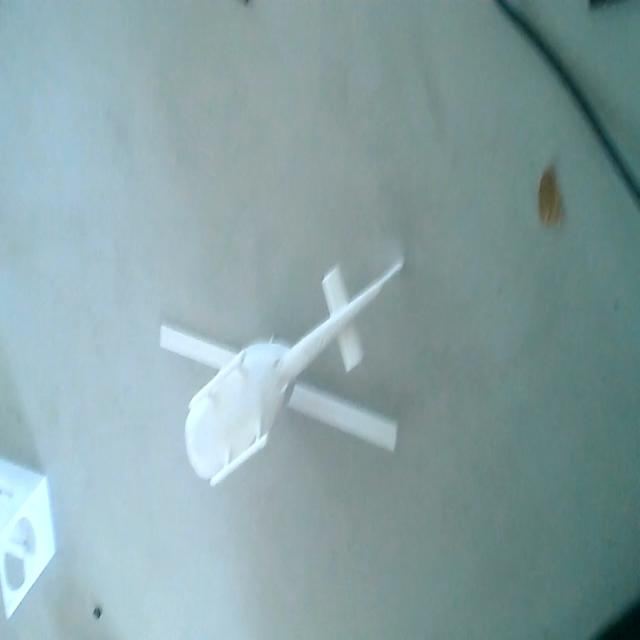Helicopter: (162, 258, 409, 496)
